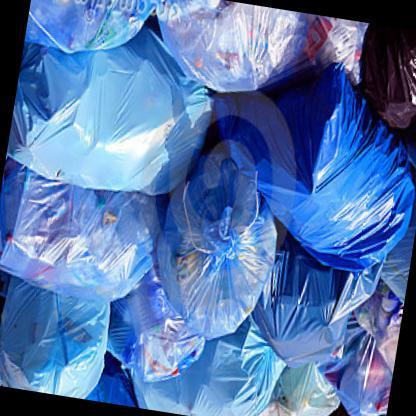Garbage: (242, 46, 415, 415), (0, 22, 167, 322), (132, 81, 290, 344), (0, 287, 272, 415), (154, 0, 292, 101)
